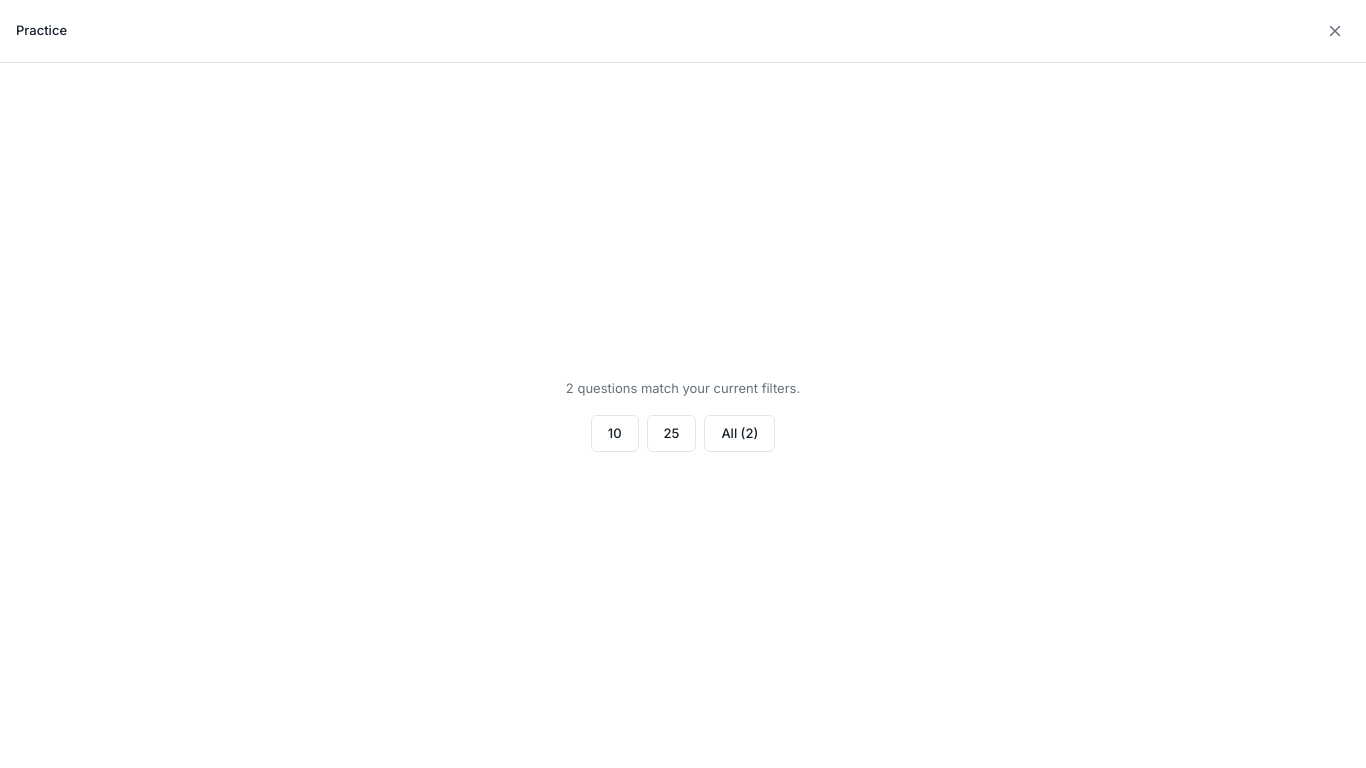
Scenario: PracticeMode › rating via number keys updates confidence and advances to the next card
Click the button "All (2)" at (740, 433), box [704, 414, 775, 452]
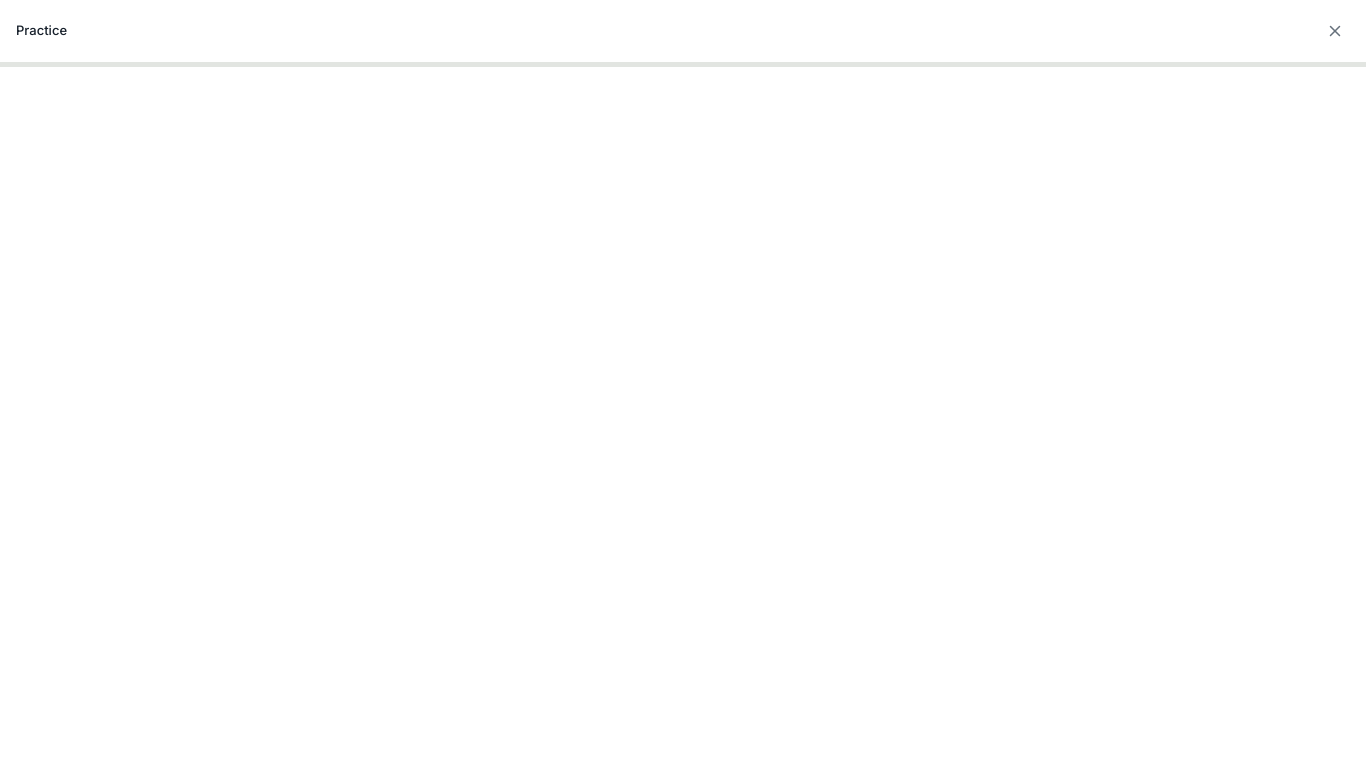
Press Space
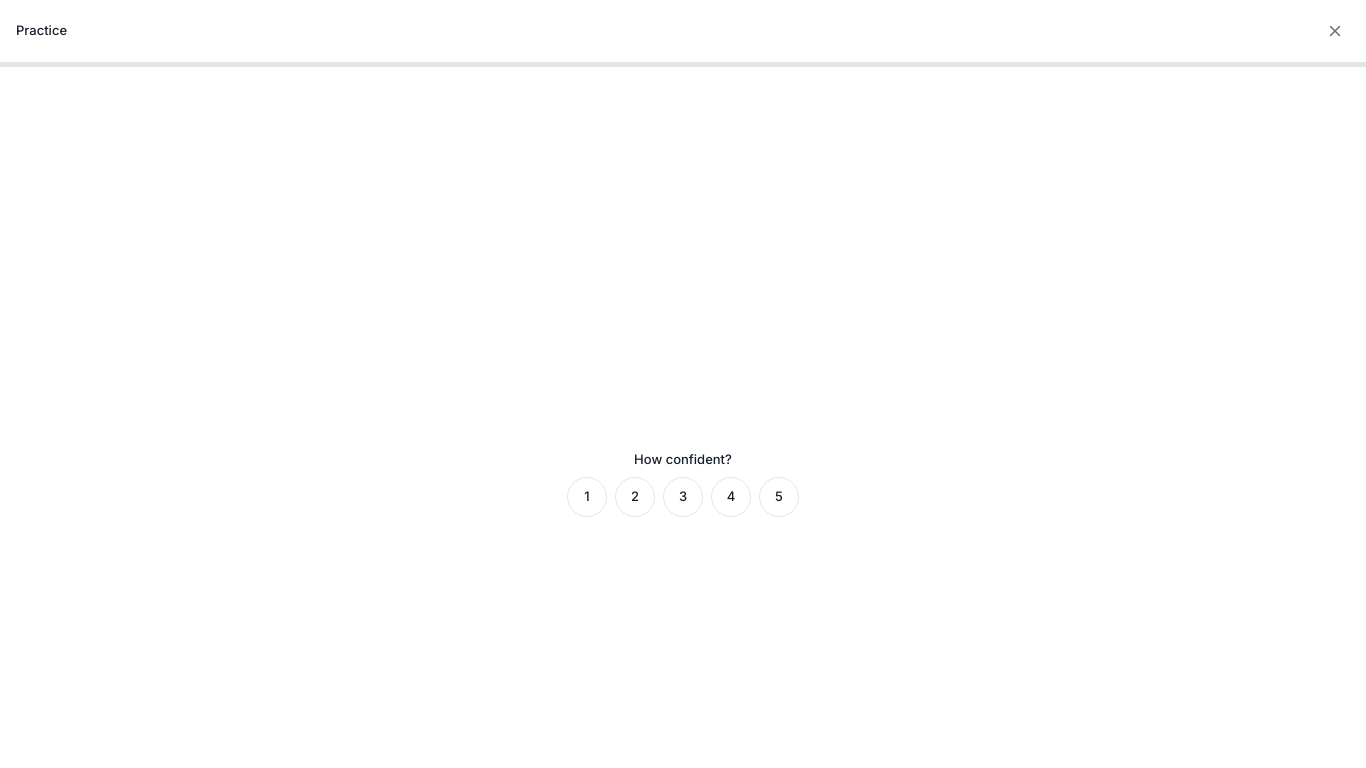
Press 5
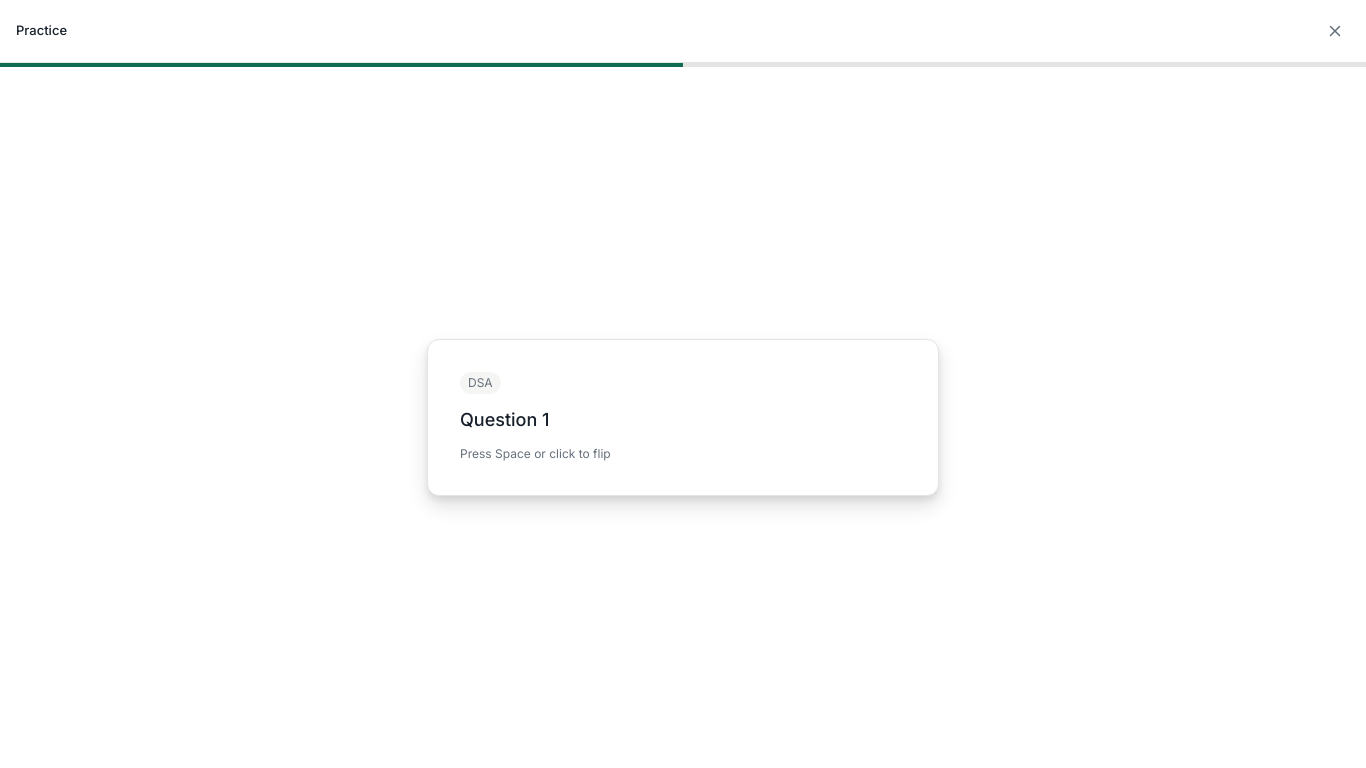
Now the text "Press Space or click to flip" is shown, box [460, 445, 611, 463]
